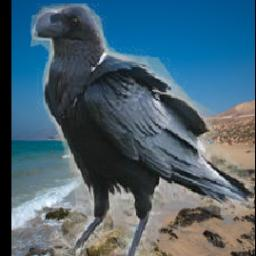Crow: (30, 3, 253, 256)
